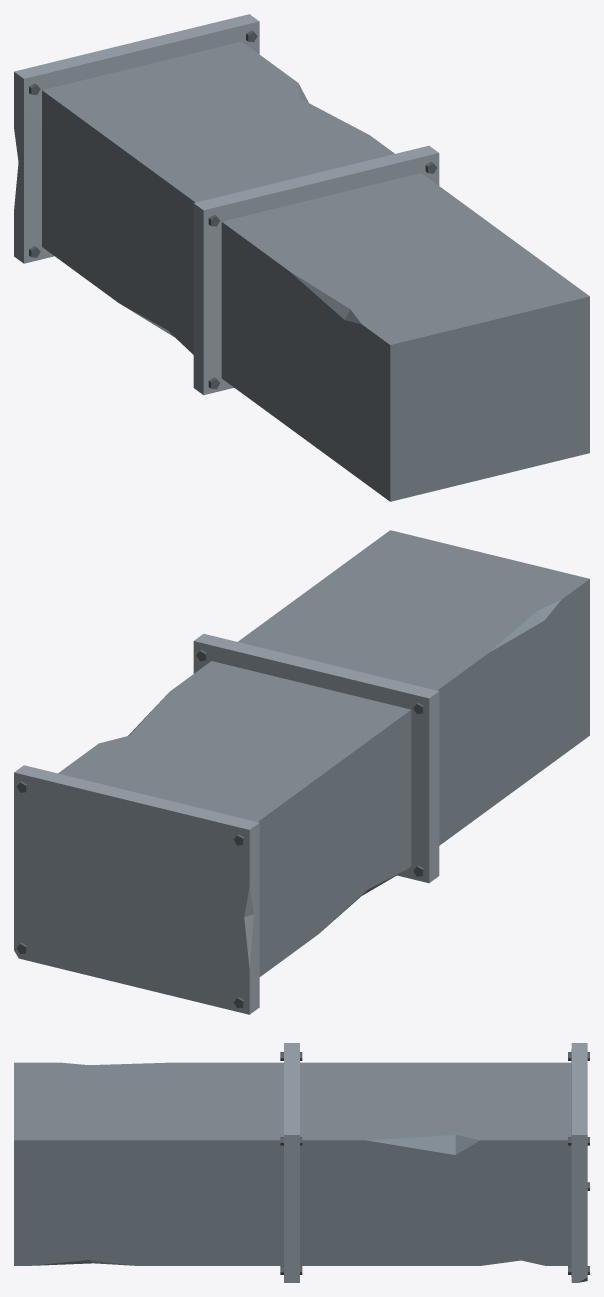
The model's file is SM_Prop_AirDuct_01.obj.
3 renders of one model, top to bottom at view 1: azimuth 30°, elevation 25°; view 2: azimuth 150°, elevation 25°; view 3: azimuth 270°, elevation 25°, orthographic. The views are drawn at different scales.
Visible parts, largest first — view 1: SM_Prop_AirDuct_01_0; view 2: SM_Prop_AirDuct_01_0; view 3: SM_Prop_AirDuct_01_0.
Part boxes in pixels (x1=…): SM_Prop_AirDuct_01_0: x1=14, y1=14, x2=589, y2=501; SM_Prop_AirDuct_01_0: x1=14, y1=530, x2=589, y2=1014; SM_Prop_AirDuct_01_0: x1=14, y1=1043, x2=589, y2=1282.
Size of the model in its own units: 0.9488 by 0.7116 by 2.51.
1 material, 1 textured.
